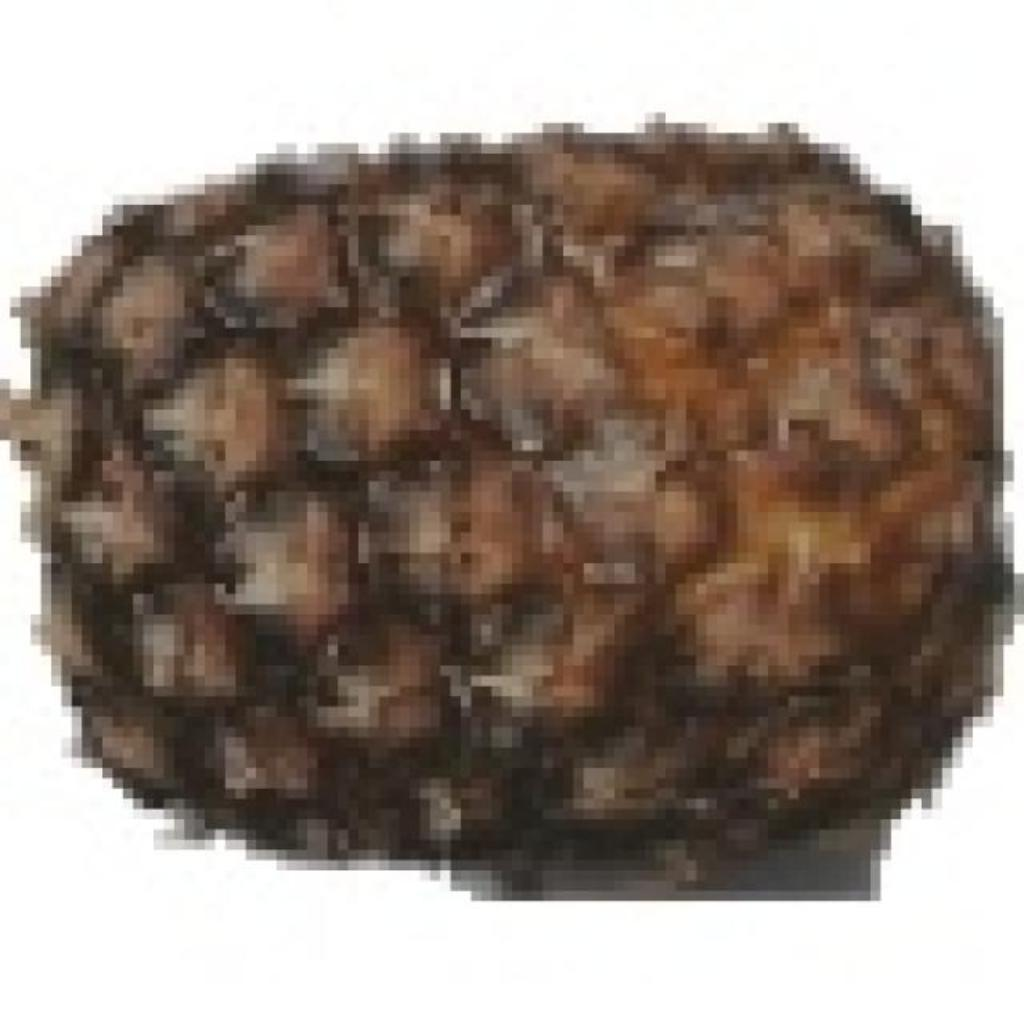pineapple: (10, 113, 983, 870)
